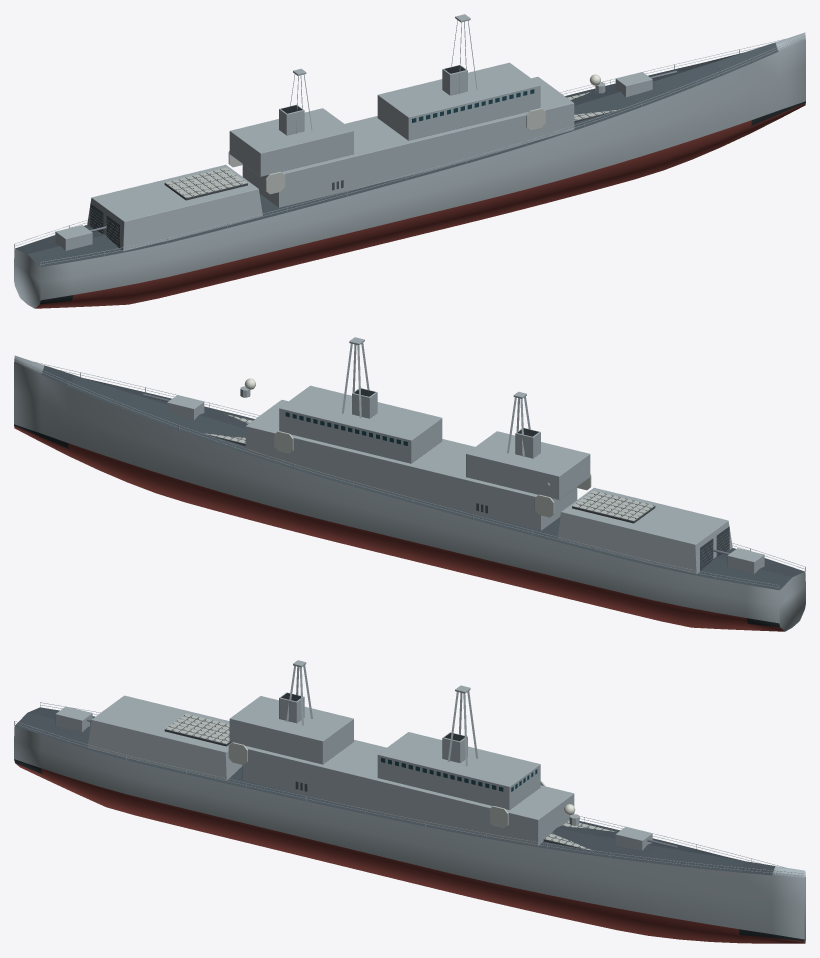
File: cw90_ticonderoga.glb
3 views of the same model, one above another, from view 1: azimuth 30°, elevation 25°; view 2: azimuth 150°, elevation 25°; view 3: azimuth 330°, elevation 25° (orthographic).
Visible parts, largest first — view 1: cw90_ticonderoga; view 2: cw90_ticonderoga; view 3: cw90_ticonderoga.
Boxes of the visible parts, box(x1,y1,x2,y2) form: cw90_ticonderoga: box(14, 14, 805, 308); cw90_ticonderoga: box(14, 337, 805, 631); cw90_ticonderoga: box(14, 660, 805, 943).
Size of the model in its own units: 10 by 2.43 by 0.9597.
